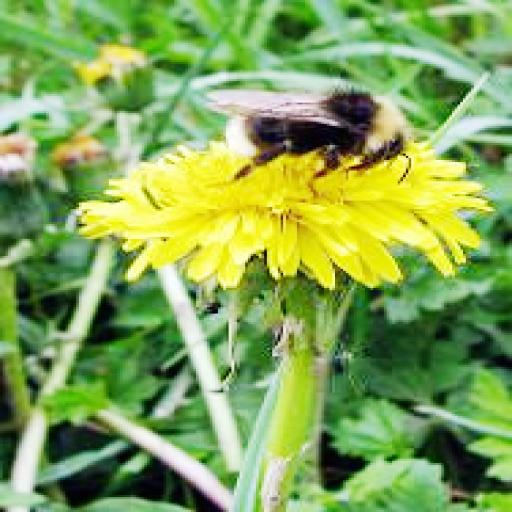dandelion: (70, 136, 496, 286)
